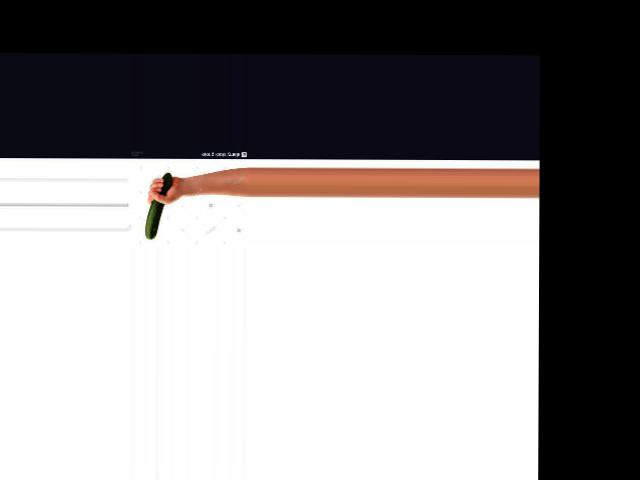cucumber: (144, 172, 170, 238)
